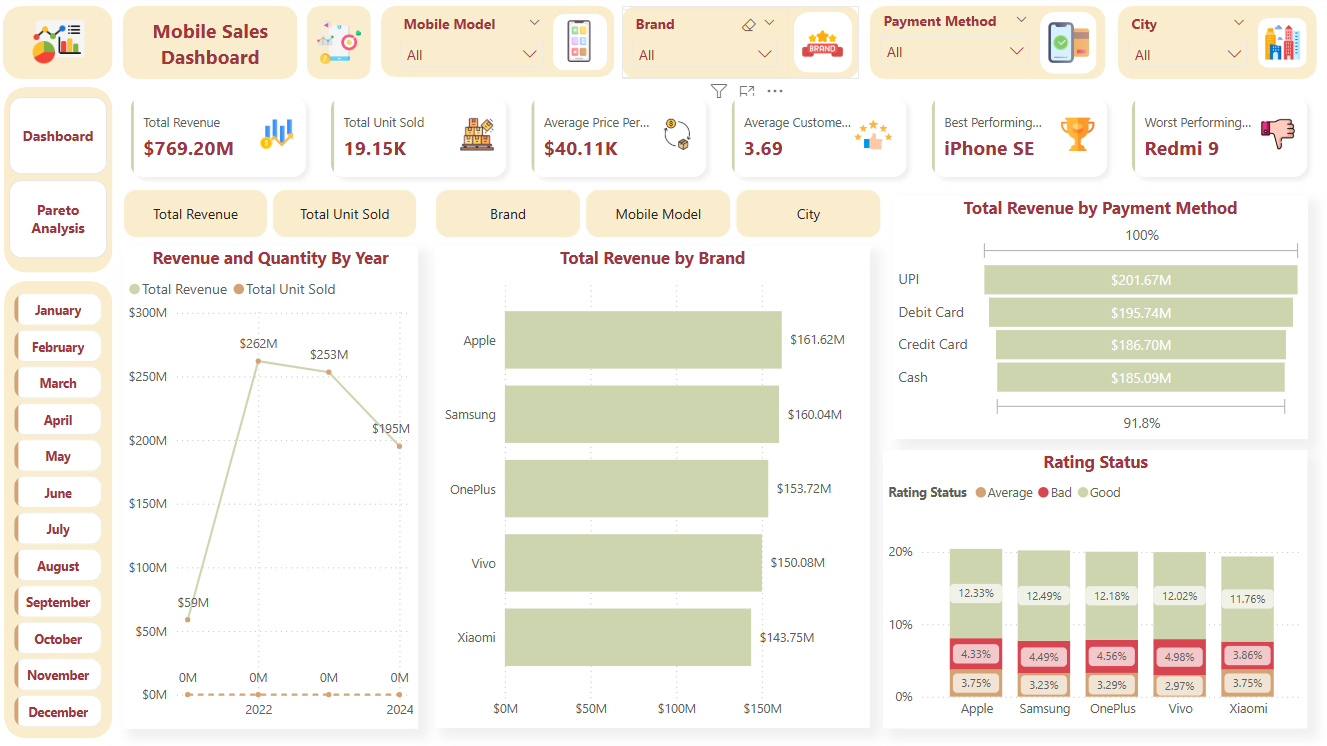

Layout of this report page (visuals, bound fields, positions):
{"tool":"powerbi","page":{"name":"Dashboard","canvas":[1280,720],"ordinal":0},"visuals":[{"type":"shape","box":[9.7,9.7,105,70],"z":0,"group":"g4"},{"type":"shape","box":[603,9.7,227.6,70],"z":0,"group":"g5"},{"type":"shape","box":[841.3,9.7,225.7,70],"z":0,"group":"g7"},{"type":"shape","box":[1078.7,9.7,190.6,70],"z":0},{"type":"slicer","fields":{"Values":["dim_payment.Payment Method"]},"box":[841.3,9.7,163.4,69.1],"z":1000,"group":"g7"},{"type":"image","box":[15.5,12.6,94.3,63.2],"z":1000,"group":"g4"},{"type":"slicer","fields":{"Values":["dim_product.Brand"]},"box":[603,12.6,159.4,66.1],"z":1000,"group":"g5"},{"type":"shape","box":[10.7,87.5,104.1,178],"z":1000},{"type":"slicer","fields":{"Values":["dim_city.City"]},"box":[1078.7,12.6,134.2,64.2],"z":2000},{"type":"shape","box":[768.2,15.5,55.7,58.4],"z":2000,"group":"g5"},{"type":"shape","box":[1004.7,15.5,54.5,59.3],"z":2000,"group":"g7"},{"type":"shape","box":[124.5,9.7,167.3,70],"z":3000,"group":"g3"},{"type":"group","id":"g1","title":"Group 1","box":[371.6,9.7,223.7,68.1],"z":3000},{"type":"image","box":[1003.7,20.4,56.4,48.6],"z":3000,"group":"g7"},{"type":"image","box":[771.1,21.4,49.9,48.6],"z":3000,"group":"g5"},{"type":"group","id":"g2","title":"Group 2","box":[301.5,9.7,61.3,70],"z":4000},{"type":"shape","box":[10.7,273.3,104.1,438.7],"z":4000,"group":"g6"},{"type":"group","id":"g3","title":"Group 3","box":[124.5,9.7,167.3,70],"z":5000},{"type":"textbox","title":"Mobile Sales Dashboard","box":[124.5,20.4,167.3,48.6],"z":5000,"group":"g3"},{"type":"group","id":"g4","title":"Group 4","box":[9.7,9.7,105,70],"z":6000},{"type":"shape","box":[301.5,9.7,61.3,70],"z":6000,"group":"g2"},{"type":"shape","box":[371.6,9.7,223.7,68.1],"z":7000,"group":"g1"},{"type":"group","id":"g5","title":"Group 5","box":[603,9.7,227.6,70],"z":7000},{"type":"group","id":"g6","title":"Group 6","box":[10.7,273.3,104.1,438.7],"z":8000},{"type":"group","id":"g7","title":"Group 7","box":[841.3,9.7,225.7,70],"z":9000},{"type":"shape","box":[1212.9,21.4,46.7,47.7],"z":10000},{"type":"image","box":[1212.9,23.3,47.7,42.8],"z":11000},{"type":"advancedSlicerVisual","fields":{"Values":["dim_calendar.Month Name"]},"box":[15.6,280.1,94.3,428.9],"z":11000,"group":"g6"},{"type":"image","box":[306.4,15.5,51.6,57.4],"z":12000,"group":"g2"},{"type":"cardVisual","fields":{"Data":["KPI Measures Table.Total Revenue","KPI Measures Table.Total Unit Sold","KPI Measures Table.Average Price Per Unit","KPI Measures Table.Average Customer Ratings","KPI Measures Table.Best Performing Model","KPI Measures Table.Worst Performing Model"]},"box":[114.8,78.8,1165.2,112.8],"z":12000},{"type":"slicer","fields":{"Values":["dim_product.Mobile Model"]},"box":[380.1,12.5,156.7,64.3],"z":13000,"group":"g1"},{"type":"advancedSlicerVisual","fields":{"Values":["Revenue And Quantity.Revenue And Quantity"]},"box":[124.5,184.8,283,47.7],"z":13000},{"type":"shape","box":[536.8,17.3,51.9,53.9],"z":13500,"group":"g1"},{"type":"image","box":[536.8,18.2,50,50.1],"z":14000,"group":"g1"},{"type":"lineChart","title":"Revenue and Quantity By Year","fields":{"Y":["KPI Measures Table.Total Revenue","KPI Measures Table.Total Unit Sold"],"Category":["dim_calendar.Year"]},"box":[124.5,239.3,283,463],"z":14000},{"type":"advancedSlicerVisual","fields":{"Values":["Revenue percentage.Revenue percentage"]},"box":[424.1,184.8,429.9,47.7],"z":15000},{"type":"clusteredBarChart","fields":{"Category":["dim_product.Brand","dim_product.Mobile Model","dim_city.City"],"Y":["KPI Measures Table.Total Revenue"]},"box":[423.8,239.7,417.1,462.1],"z":16000},{"type":"funnel","fields":{"Category":["dim_payment.Payment Method"],"Y":["KPI Measures Table.Total Revenue"]},"box":[862.9,191.8,397.9,233],"z":17000},{"type":"lineStackedColumnComboChart","title":"Rating Status","fields":{"Category":["dim_product.Brand"],"Series":["fact_orders.Rating Status"],"Y":["KPI Measures Table.Rating Percentage"]},"box":[853.3,435.3,407.5,266.5],"z":18000},{"type":"actionButton","box":[15.3,96.8,94,73.8],"z":19000},{"type":"actionButton","box":[15.3,176.4,94,74.8],"z":20000}]}

Visuals, with their boxes in screenshot pixels (x1, y1, x2, y2), scaled from the page's 1280x720 canvas onto the 1327x746 screenshot:
shape: box=[10, 10, 119, 83]
shape: box=[625, 10, 861, 83]
shape: box=[872, 10, 1106, 83]
shape: box=[1118, 10, 1316, 83]
slicer - dim_payment.Payment Method: box=[872, 10, 1042, 82]
image: box=[16, 13, 114, 79]
slicer - dim_product.Brand: box=[625, 13, 790, 82]
shape: box=[11, 91, 119, 275]
slicer - dim_city.City: box=[1118, 13, 1257, 80]
shape: box=[796, 16, 854, 77]
shape: box=[1042, 16, 1098, 78]
shape: box=[129, 10, 303, 83]
"Group 1" group: box=[385, 10, 617, 81]
image: box=[1041, 21, 1099, 71]
image: box=[799, 22, 851, 73]
"Group 2" group: box=[313, 10, 376, 83]
shape: box=[11, 283, 119, 738]
"Group 3" group: box=[129, 10, 303, 83]
"Mobile Sales Dashboard" textbox: box=[129, 21, 303, 71]
"Group 4" group: box=[10, 10, 119, 83]
shape: box=[313, 10, 376, 83]
shape: box=[385, 10, 617, 81]
"Group 5" group: box=[625, 10, 861, 83]
"Group 6" group: box=[11, 283, 119, 738]
"Group 7" group: box=[872, 10, 1106, 83]
shape: box=[1257, 22, 1306, 72]
image: box=[1257, 24, 1307, 68]
advancedSlicerVisual - dim_calendar.Month Name: box=[16, 290, 114, 735]
image: box=[318, 16, 371, 76]
cardVisual - KPI Measures Table.Total Revenue x KPI Measures Table.Total Unit Sold: box=[119, 82, 1326, 199]
slicer - dim_product.Mobile Model: box=[394, 13, 557, 80]
advancedSlicerVisual - Revenue And Quantity.Revenue And Quantity: box=[129, 191, 422, 241]
shape: box=[557, 18, 610, 74]
image: box=[557, 19, 608, 71]
"Revenue and Quantity By Year" lineChart: box=[129, 248, 422, 728]
advancedSlicerVisual - Revenue percentage.Revenue percentage: box=[440, 191, 885, 241]
clusteredBarChart - dim_product.Brand x dim_product.Mobile Model: box=[439, 248, 872, 727]
funnel - dim_payment.Payment Method x KPI Measures Table.Total Revenue: box=[895, 199, 1307, 440]
"Rating Status" lineStackedColumnComboChart: box=[885, 451, 1307, 727]
actionButton: box=[16, 100, 113, 177]
actionButton: box=[16, 183, 113, 260]
